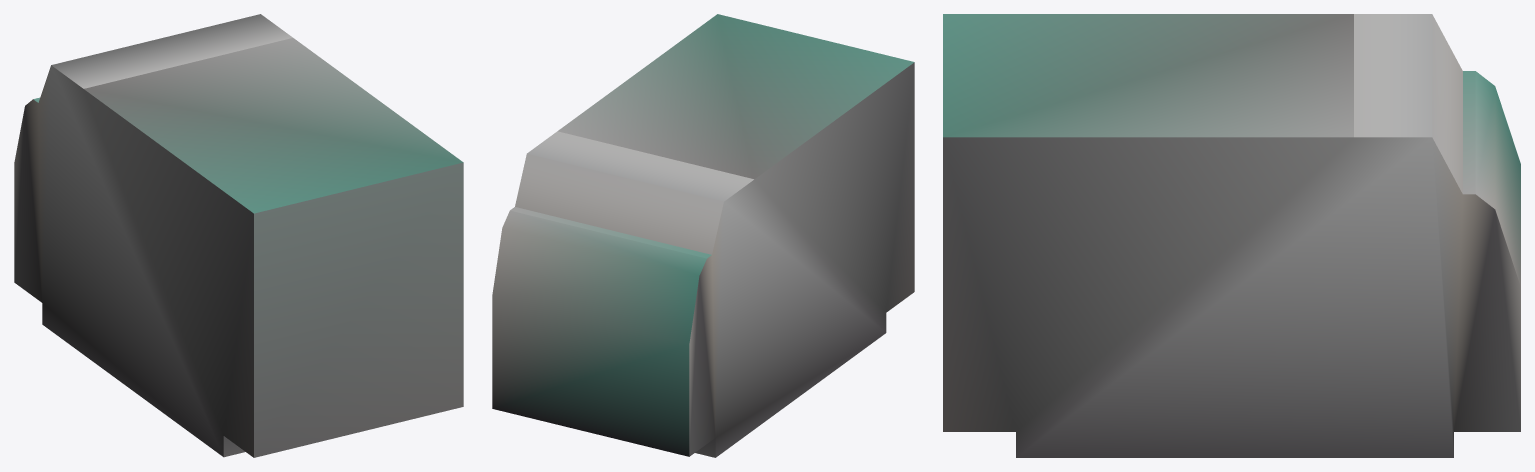
The model's file is truck-green.glb.
3 views of the same model, side by side, from view 1: azimuth 30°, elevation 25°; view 2: azimuth 150°, elevation 25°; view 3: azimuth 270°, elevation 25° (orthographic). The views are drawn at different scales.
Parts seen in each view (by area): view 1: truck-green; view 2: truck-green; view 3: truck-green.
Boxes of the visible parts, bbox=[...] form: truck-green: bbox=[14, 14, 463, 457]; truck-green: bbox=[492, 14, 914, 457]; truck-green: bbox=[943, 14, 1520, 457].
Size of the model in its own units: 0.83 by 1.01 by 1.64.
